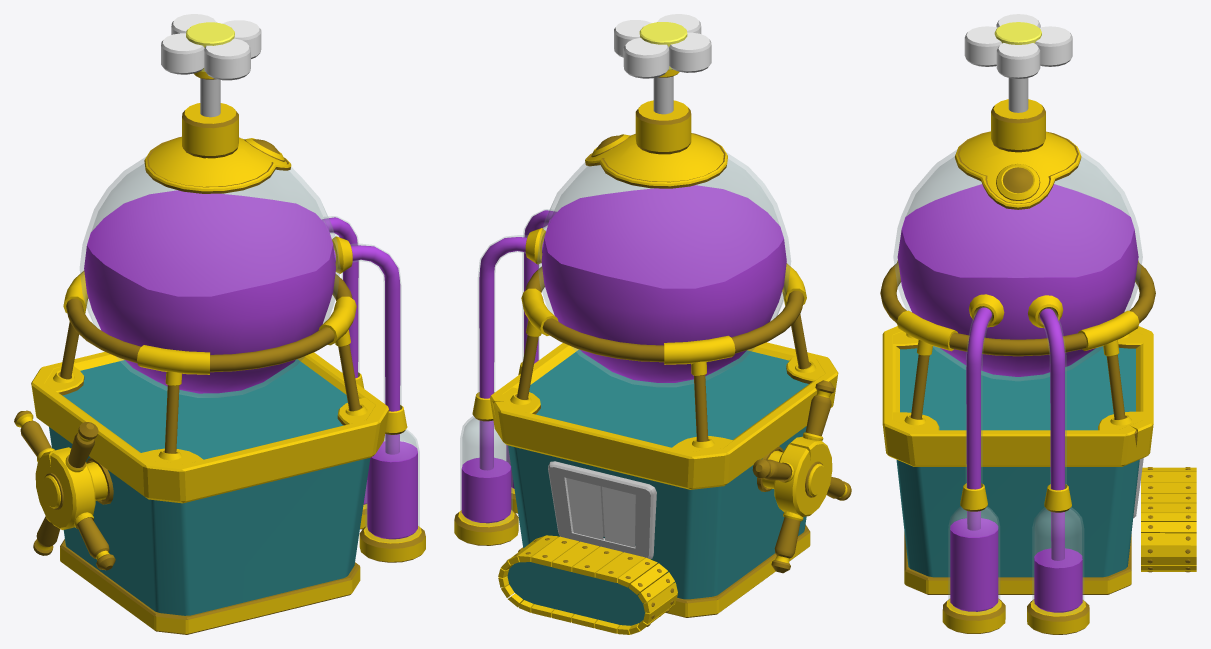
File: tub.glb
3 renders of one model, left to right at view 1: azimuth 30°, elevation 25°; view 2: azimuth 150°, elevation 25°; view 3: azimuth 270°, elevation 25°, orthographic. The views are drawn at different scales.
Parts seen in each view (by area): view 1: polySurface1, polySurface8, polySurface6, pCube1, pTorus5, pCube3, pCylinder109, pSphere1, pCylinder112, pCylinder23, pCylinder30, polySurface9 (+20 smaller); view 2: polySurface1, polySurface8, polySurface6, pCube1, polySurface18, pTorus5, polySurface10, pCylinder19, pSphere1, polySurface19, pCylinder106, pCylinder107 (+24 smaller); view 3: polySurface1, polySurface8, polySurface6, pCube1, pTorus5, polySurface18, pCylinder109, pCylinder19, pSphere1, pCylinder112, pCylinder106, polySurface9 (+21 smaller).
Part boxes in pixels (x1,y1,x2,y2): polySurface1: (80, 157, 340, 397); polySurface8: (84, 190, 335, 393); polySurface6: (31, 352, 388, 503); pCube1: (49, 427, 370, 615); pTorus5: (63, 270, 356, 374); pCube3: (60, 539, 360, 634); pCylinder109: (365, 429, 419, 541); pSphere1: (144, 136, 291, 193); pCylinder112: (367, 441, 417, 539); pCylinder23: (350, 243, 401, 410); pCylinder30: (334, 245, 400, 454); polySurface9: (91, 164, 331, 240); polySurface1: (537, 152, 790, 386); polySurface8: (541, 185, 786, 382); polySurface6: (490, 342, 838, 489); pCube1: (508, 426, 806, 599); polySurface18: (498, 535, 677, 634); pTorus5: (521, 263, 806, 364); polySurface10: (507, 562, 645, 625); pCylinder19: (460, 416, 512, 525); pSphere1: (585, 133, 727, 188); polySurface19: (548, 461, 656, 559); pCylinder106: (479, 237, 543, 470); pCylinder107: (478, 235, 527, 397); polySurface1: (893, 150, 1142, 380); polySurface8: (897, 184, 1138, 376); polySurface6: (882, 326, 1153, 466); pCube1: (896, 459, 1139, 577); pTorus5: (880, 260, 1155, 356); polySurface18: (1141, 467, 1196, 571); pCylinder109: (948, 506, 999, 614); pCylinder19: (1032, 507, 1083, 615); pSphere1: (955, 131, 1081, 209); pCylinder112: (950, 518, 998, 611); pCylinder106: (1039, 308, 1064, 560); polySurface9: (906, 157, 1129, 216).
Bounding box in the file's own units: 0.8328 × 1.23 × 0.6833.
